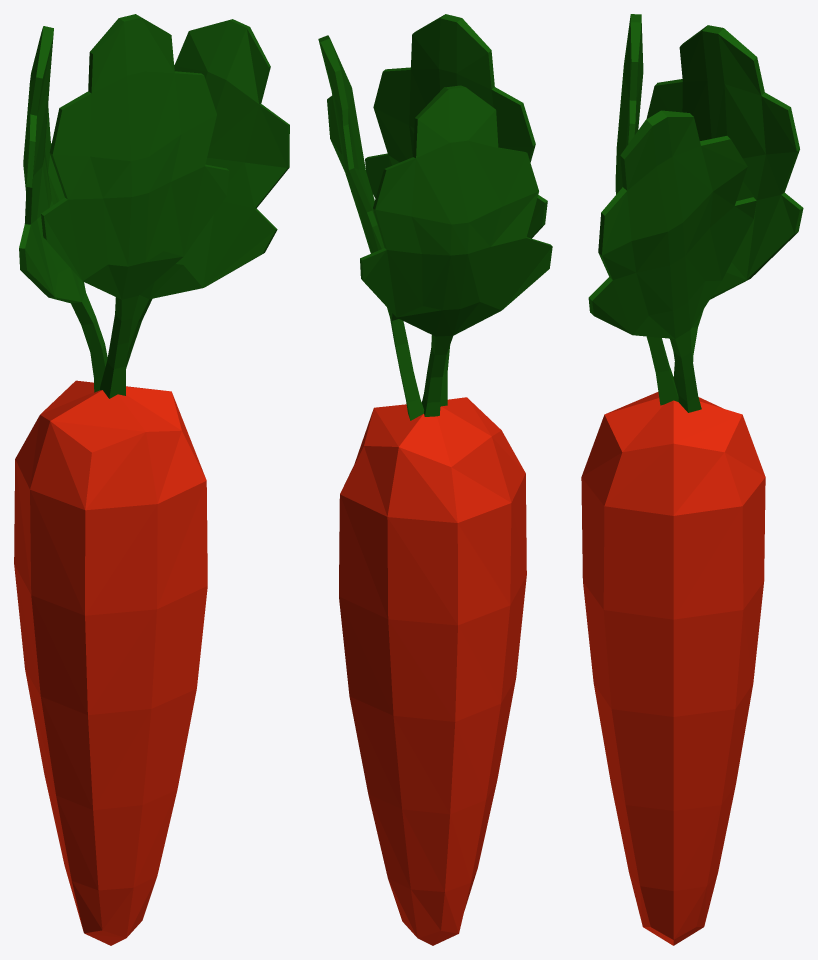
The model's file is Carrot.obj.
3 views of the same model, side by side, from view 1: azimuth 30°, elevation 25°; view 2: azimuth 150°, elevation 25°; view 3: azimuth 270°, elevation 25° (orthographic). The views are drawn at different scales.
Parts seen in each view (by area): view 1: Node-Mesh_1, Node-Mesh; view 2: Node-Mesh_1, Node-Mesh; view 3: Node-Mesh_1, Node-Mesh.
Part boxes in pixels (bbox=[...]): Node-Mesh_1: bbox=[14, 380, 207, 945]; Node-Mesh: bbox=[19, 14, 289, 398]; Node-Mesh_1: bbox=[339, 397, 526, 945]; Node-Mesh: bbox=[318, 14, 552, 420]; Node-Mesh_1: bbox=[581, 392, 765, 945]; Node-Mesh: bbox=[588, 14, 803, 412].
Size of the model in its own units: 1.21 by 4.33 by 0.9404.
